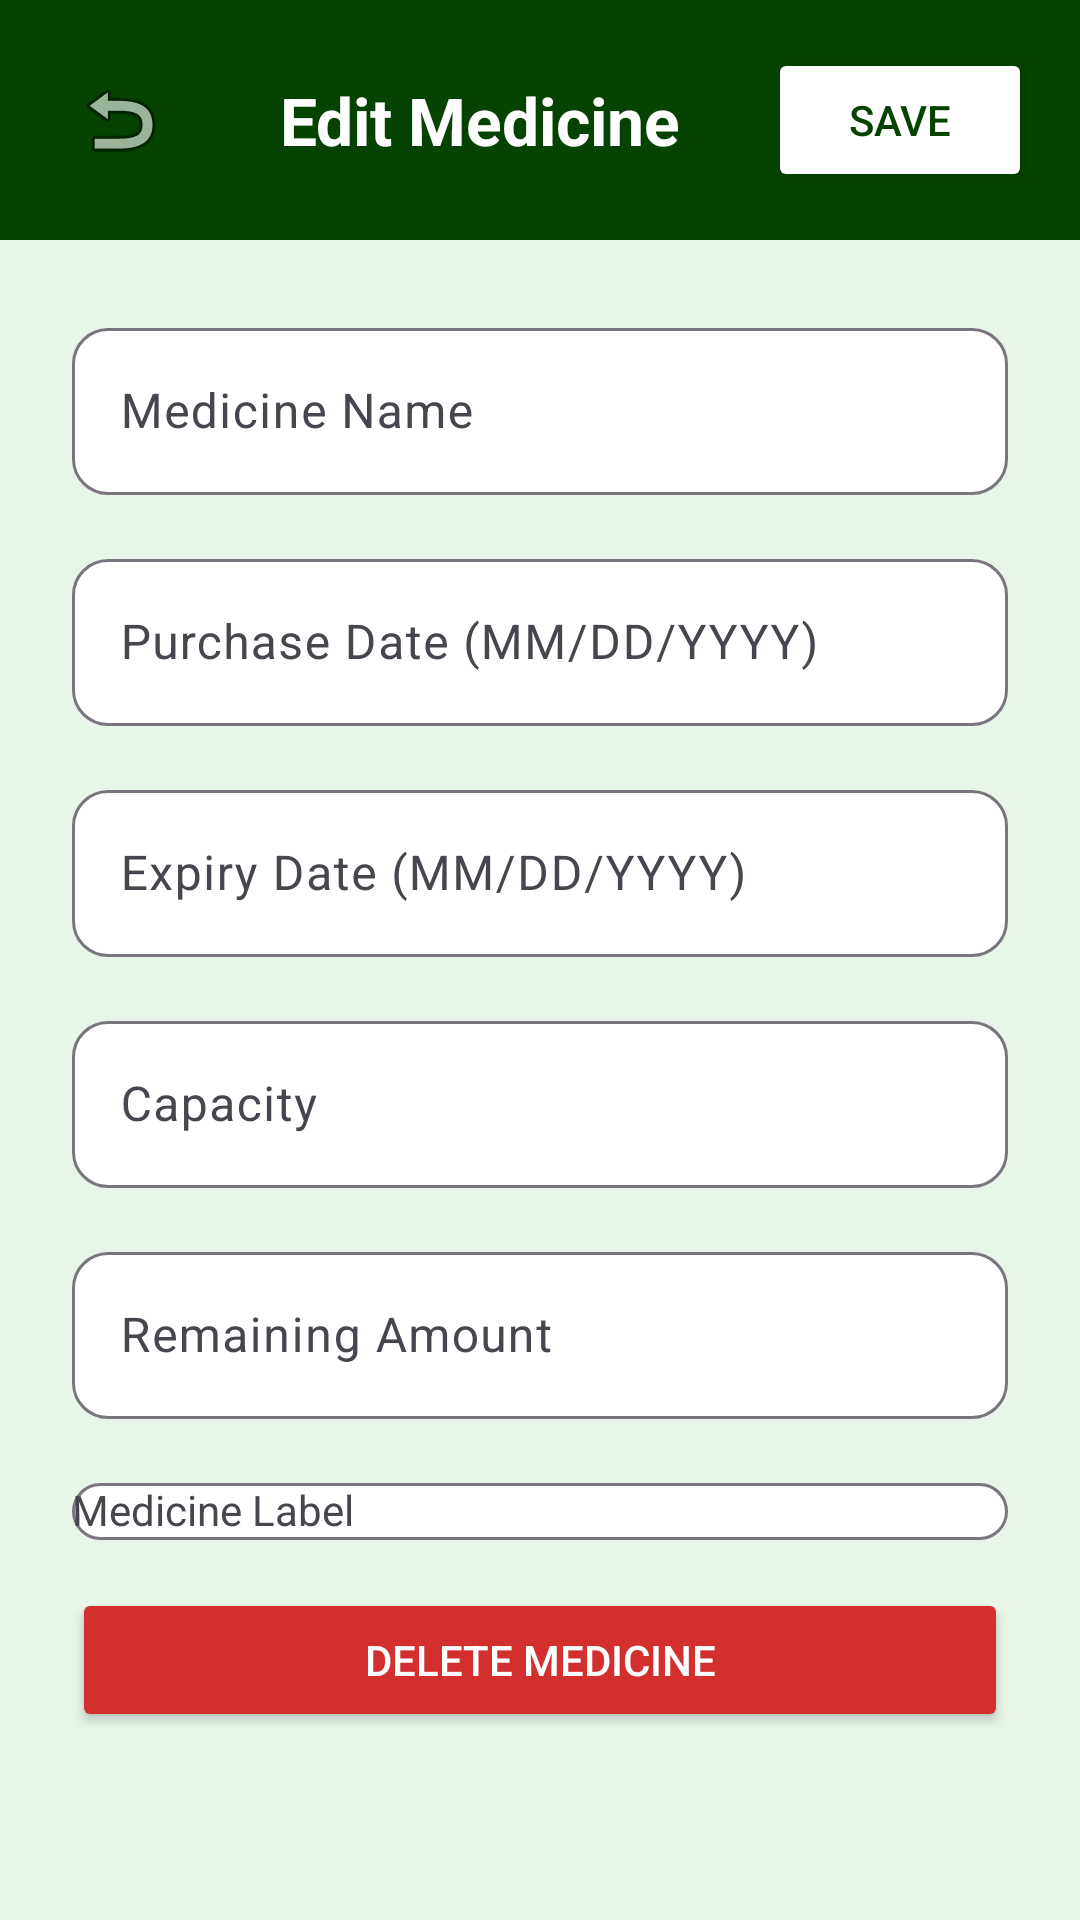

Point at icon controls on the screen. Image size 1080 × 1920, points as point (x, y).
Back: point (121, 120)
